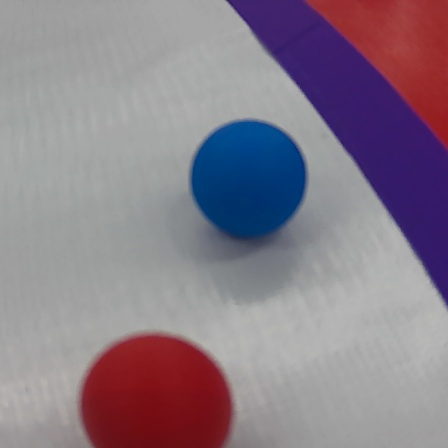blue: (181, 121, 315, 243)
red: (78, 326, 242, 448)
red_aim: (219, 3, 448, 329)
